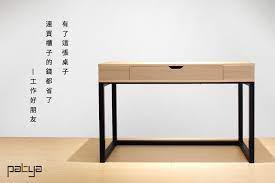desk: (82, 45, 261, 167)
